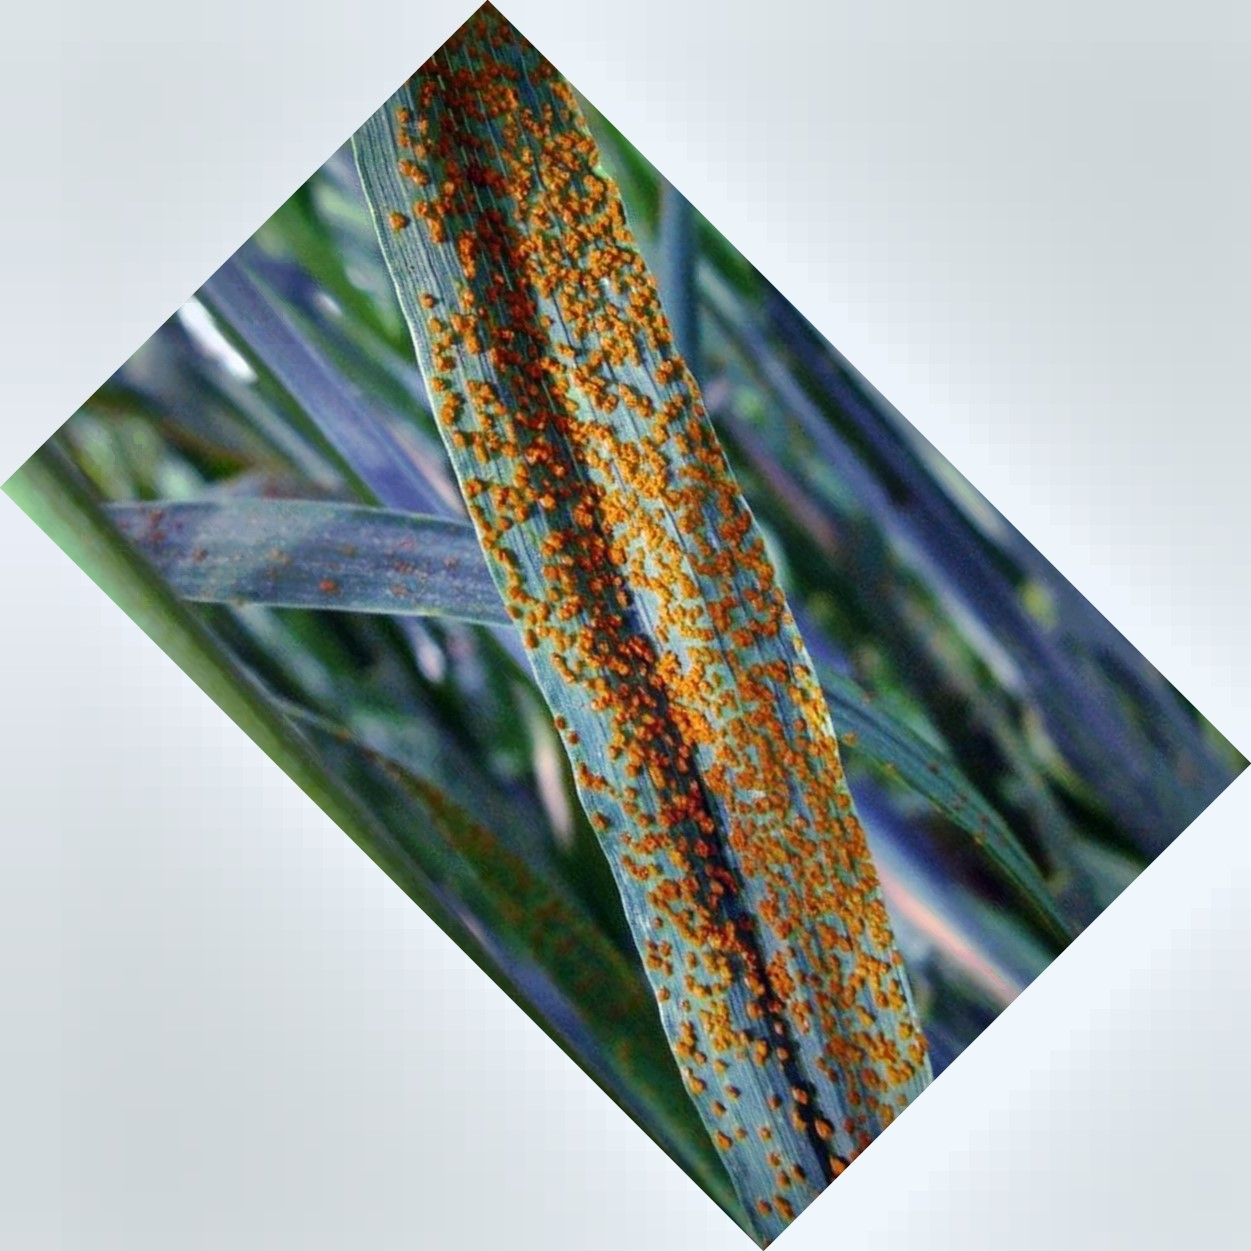Leaf Rust: (416, 111, 928, 1092)
